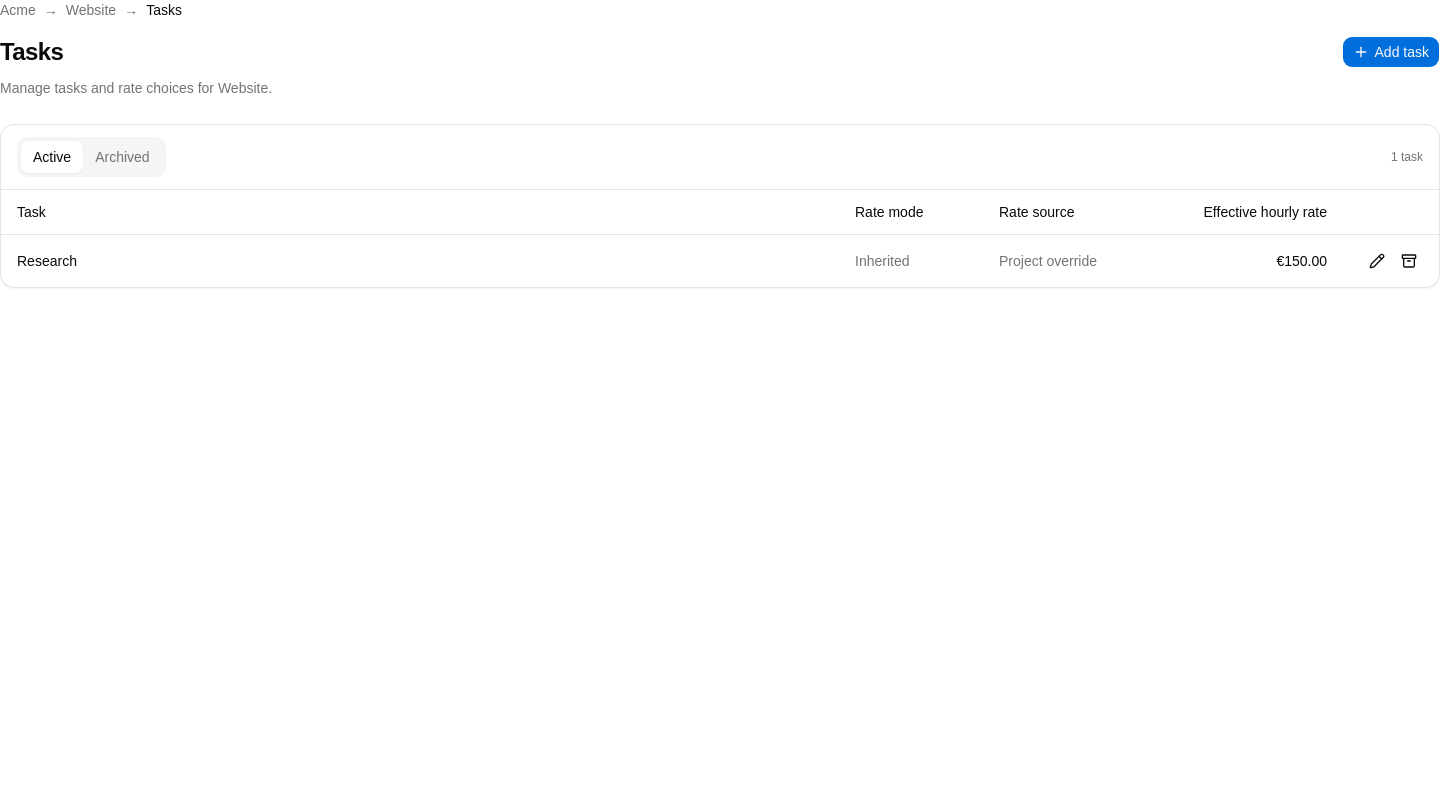
Test: keeps a lifecycle apply error visible and Retry requests a fresh preview
Expected: the text "Research" is shown, top-left (1, 234), bottom-right (847, 286)
What coordinates should you click on to do the following:
click the button named "Archive Research"
I would click on:
 (1409, 260)
Its box is top-left (1395, 246), bottom-right (1423, 274).
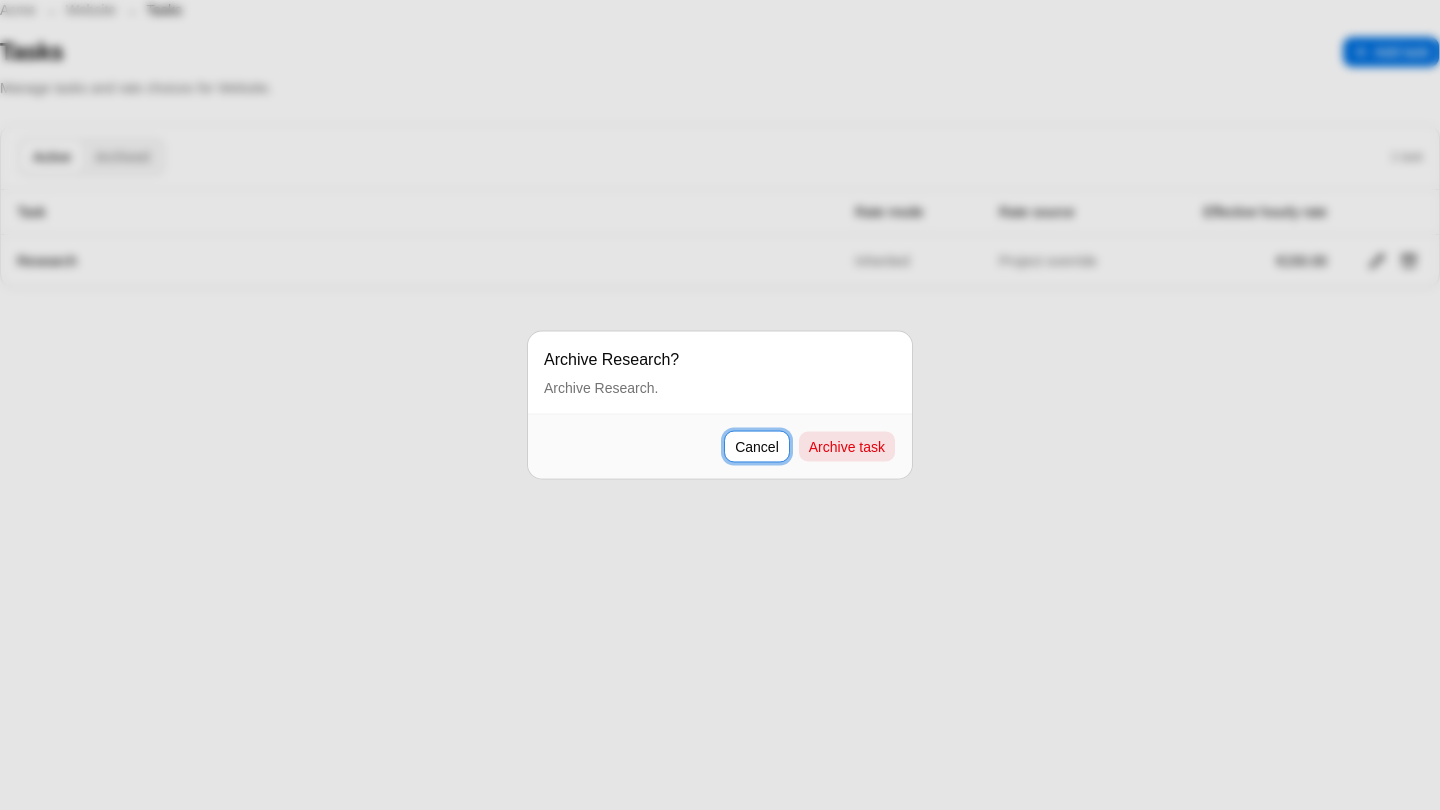
What coordinates should you click on to do the following:
click the button "Archive task"
I would click on:
 (847, 446)
Its box is top-left (798, 430), bottom-right (896, 462).
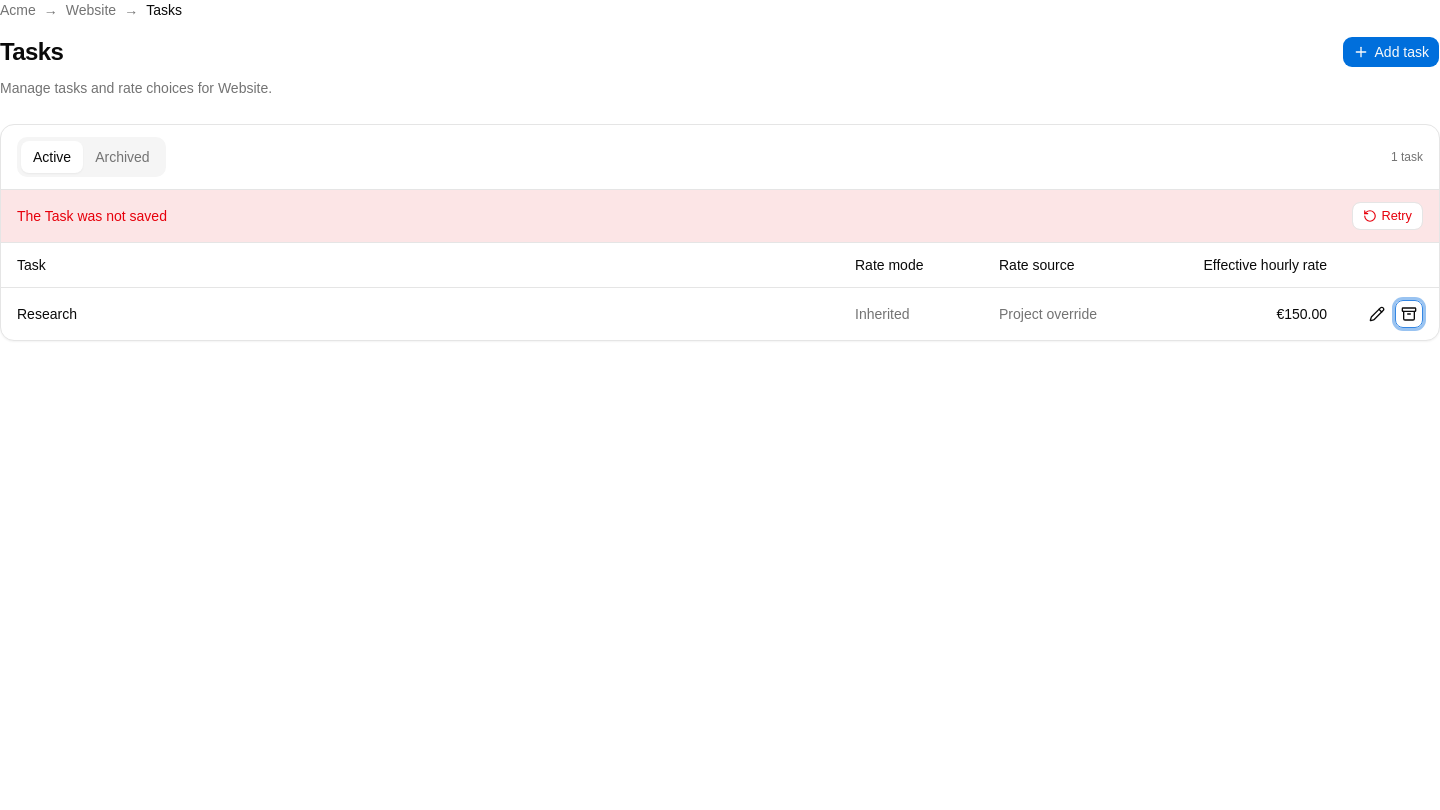
Now the message shows "not saved", box top-left (17, 208), bottom-right (167, 224)
What coordinates should you click on to do the following:
click the button "Retry"
I would click on:
 (1388, 216)
Its box is top-left (1352, 202), bottom-right (1423, 230).
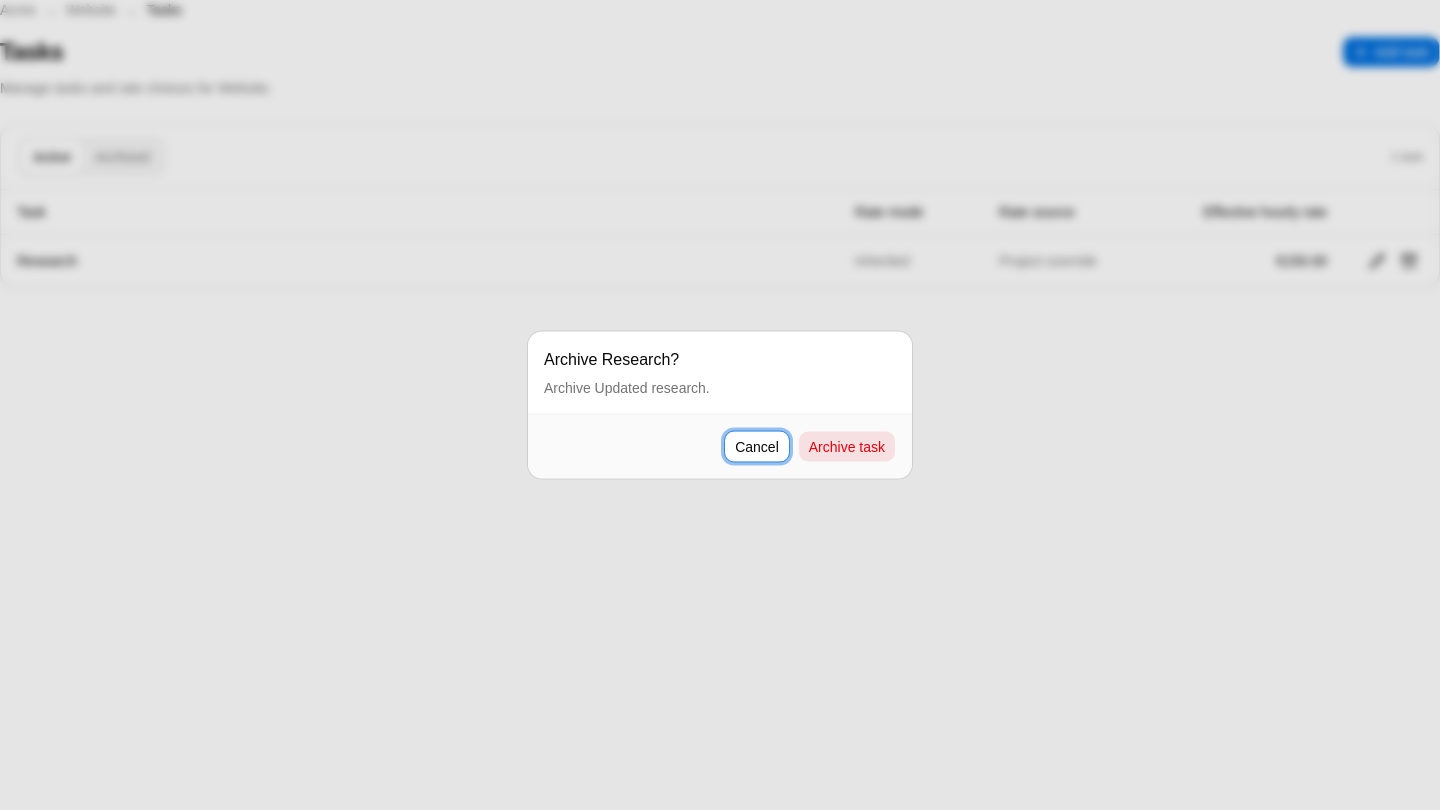
Now the dialog shows "Archive Updated research.", box top-left (544, 380), bottom-right (710, 396)
